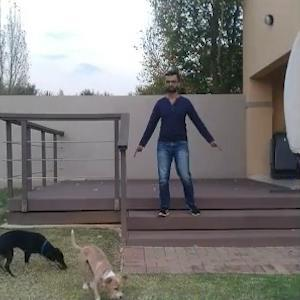land: (134, 73, 216, 226)
